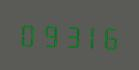nine: (38, 18, 57, 49)
one: (78, 20, 97, 50)
six: (98, 21, 117, 51)
three: (58, 19, 77, 50)
zero: (18, 18, 37, 48)
